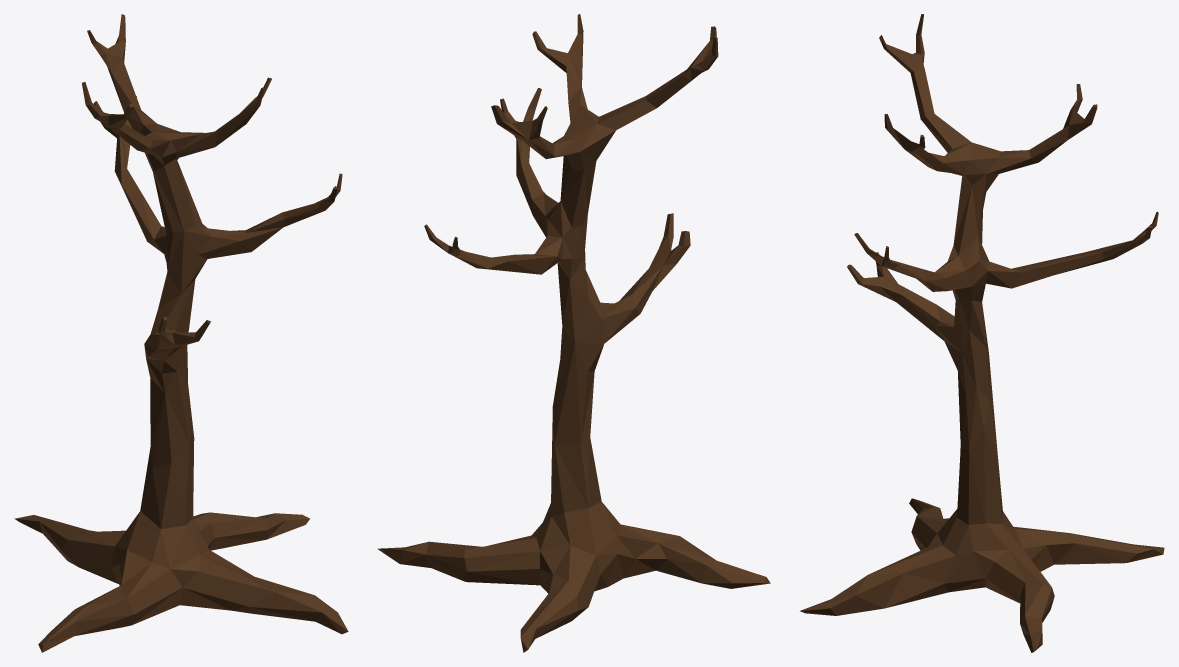
The model's file is OakTree1NoLeaves.fbx.
The picture shows the model from 3 angles, left to right: view 1: azimuth 30°, elevation 25°; view 2: azimuth 150°, elevation 25°; view 3: azimuth 270°, elevation 25°; orthographic projection. The views are drawn at different scales.
Visible parts, largest first — view 1: OakTree_LOD0; view 2: OakTree_LOD0; view 3: OakTree_LOD0.
Boxes of the visible parts, box(x1,y1,x2,y2) form: OakTree_LOD0: box(14, 14, 348, 652); OakTree_LOD0: box(378, 14, 770, 652); OakTree_LOD0: box(800, 14, 1164, 652).
Size of what is drawn, in the model's own units: 220 by 351 by 225.
